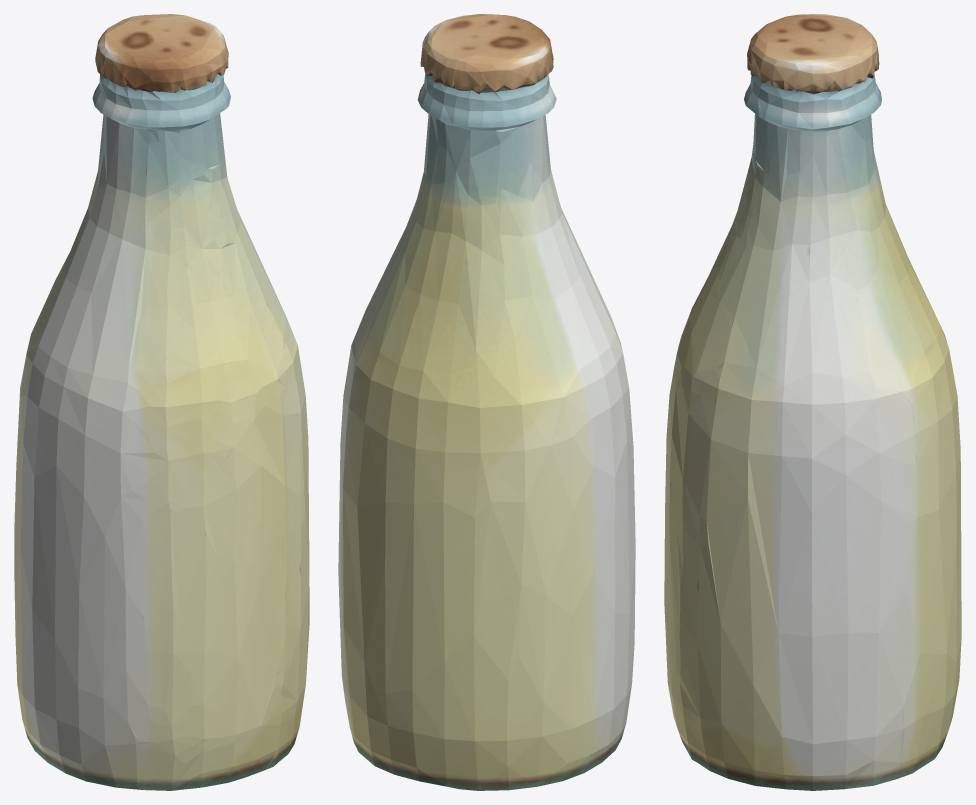
File: milk.glb
3 views of the same model, side by side, from view 1: azimuth 30°, elevation 25°; view 2: azimuth 150°, elevation 25°; view 3: azimuth 270°, elevation 25° (orthographic).
Parts seen in each view (by area): view 1: world; view 2: world; view 3: world.
Part boxes in pixels (x1,y1,x2,y2): world: (14,14,309,790); world: (338,14,635,790); world: (664,14,961,790).
Bounding box in the file's own units: 0.3822 × 0.9961 × 0.3812.
Materials: 1 (1 with a texture image).
